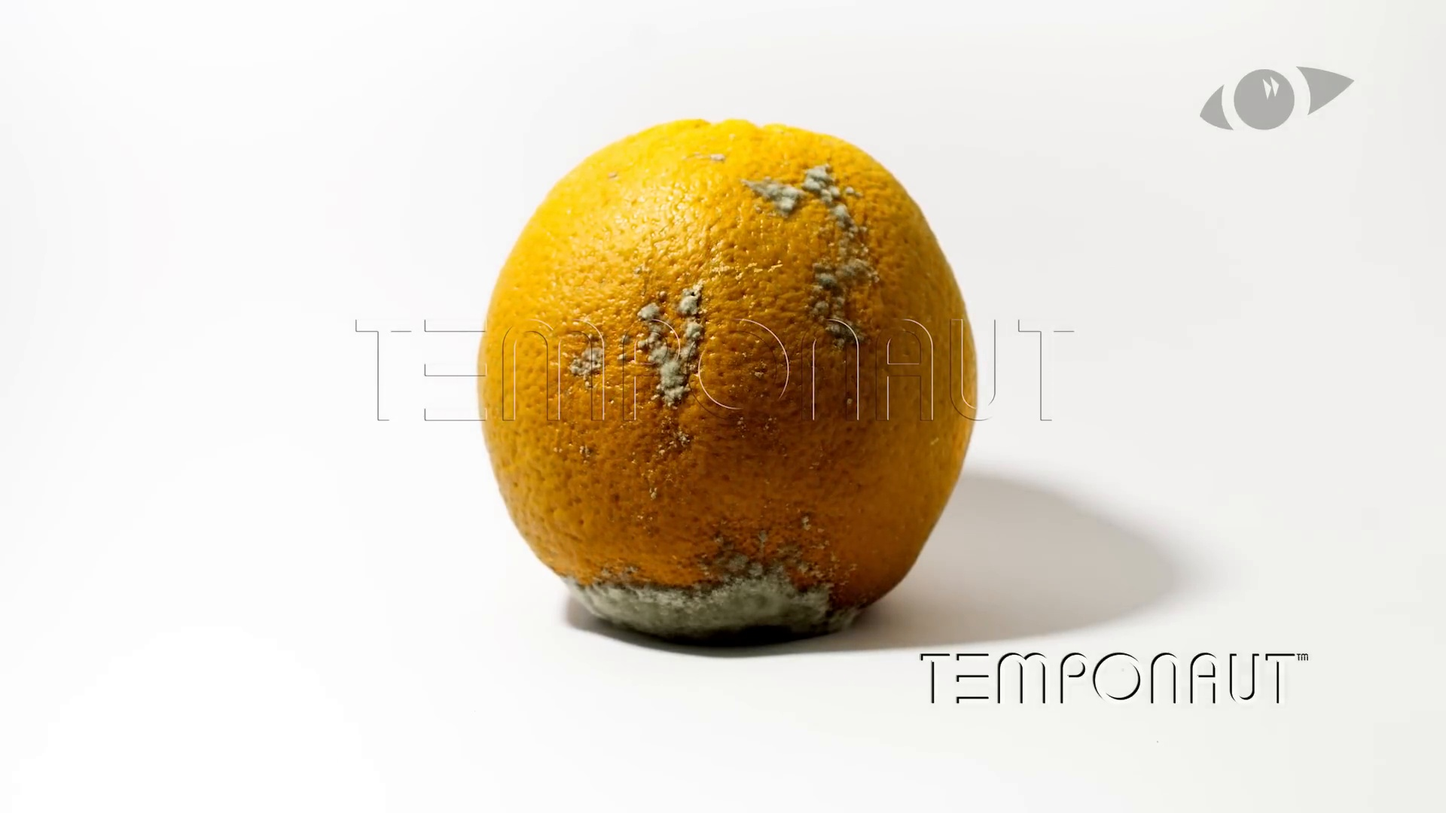orange_rotten: (477, 117, 978, 643)
